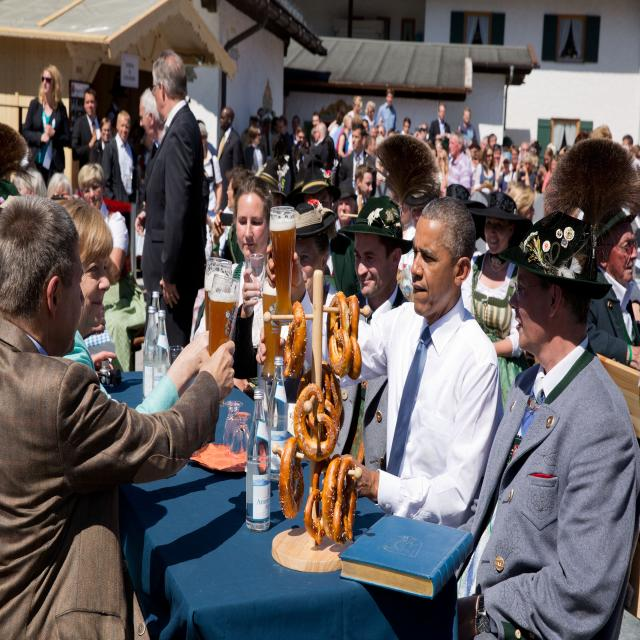body: (193, 81, 640, 376), (0, 189, 244, 640), (451, 210, 638, 640), (264, 195, 503, 527), (256, 195, 415, 472), (48, 192, 214, 418), (133, 48, 210, 374), (192, 174, 276, 392), (193, 186, 280, 358), (62, 162, 130, 286), (21, 64, 73, 192), (101, 109, 138, 245), (135, 86, 164, 221), (70, 86, 102, 170), (0, 107, 25, 186), (88, 116, 113, 166)
